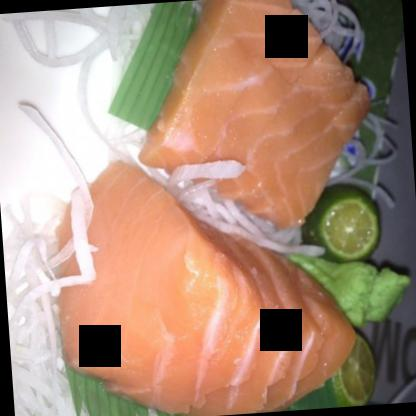salmon: (48, 151, 357, 415), (139, 0, 374, 243)
